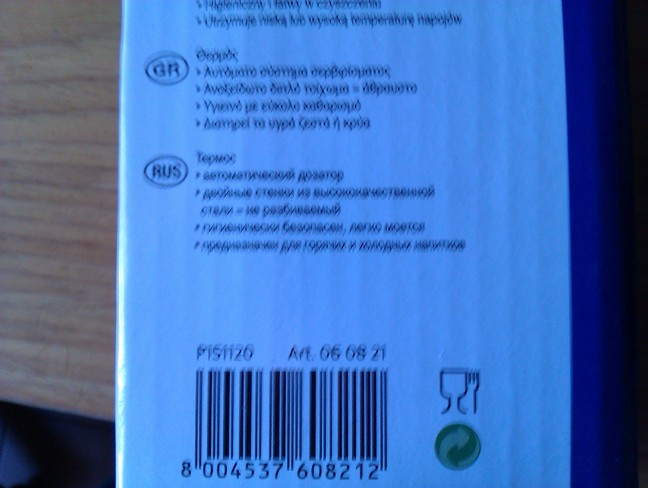detection: (148, 360, 415, 481)
